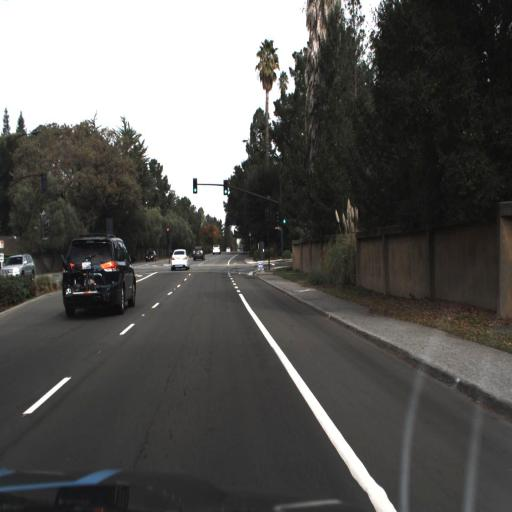car: (60, 234, 137, 314), (0, 254, 38, 286), (170, 246, 189, 274), (142, 246, 158, 267), (192, 243, 208, 263), (212, 243, 220, 256)
trafficLight-Green: (190, 174, 199, 195), (222, 180, 230, 202), (191, 179, 199, 197), (222, 176, 230, 194), (279, 214, 287, 230)
trafficLight-Red: (164, 222, 170, 236)
